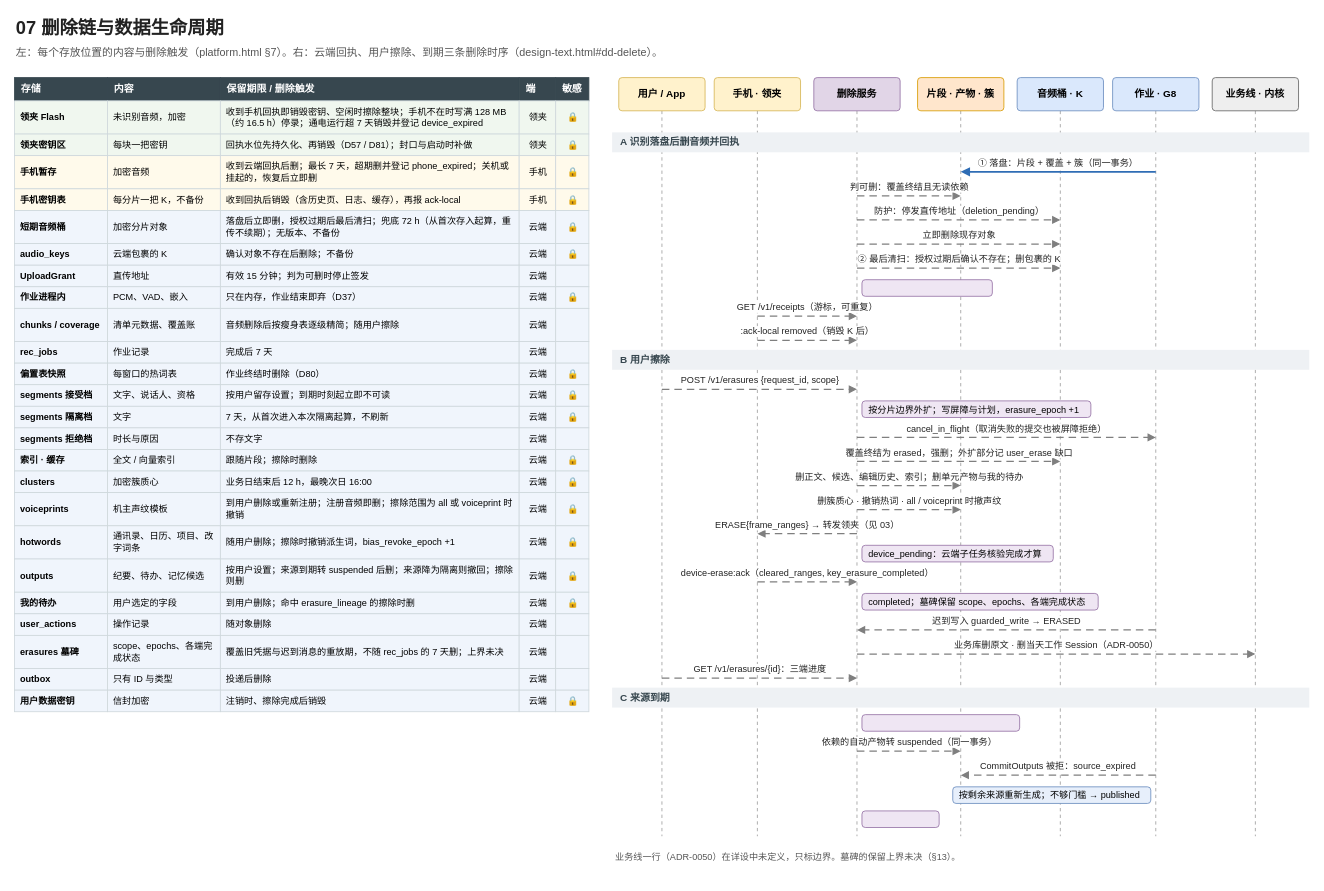
Some shapes in this 1324 by 891 pixel diagram are drawn without their labels. The centre of each missing label's shape, as x and y in pixels:
expires_at 到达：片段立即不可读: the point at 940,722
③ 生成 Receipt（outbox）: the point at 926,287
每小时巡检补漏: the point at 900,819
